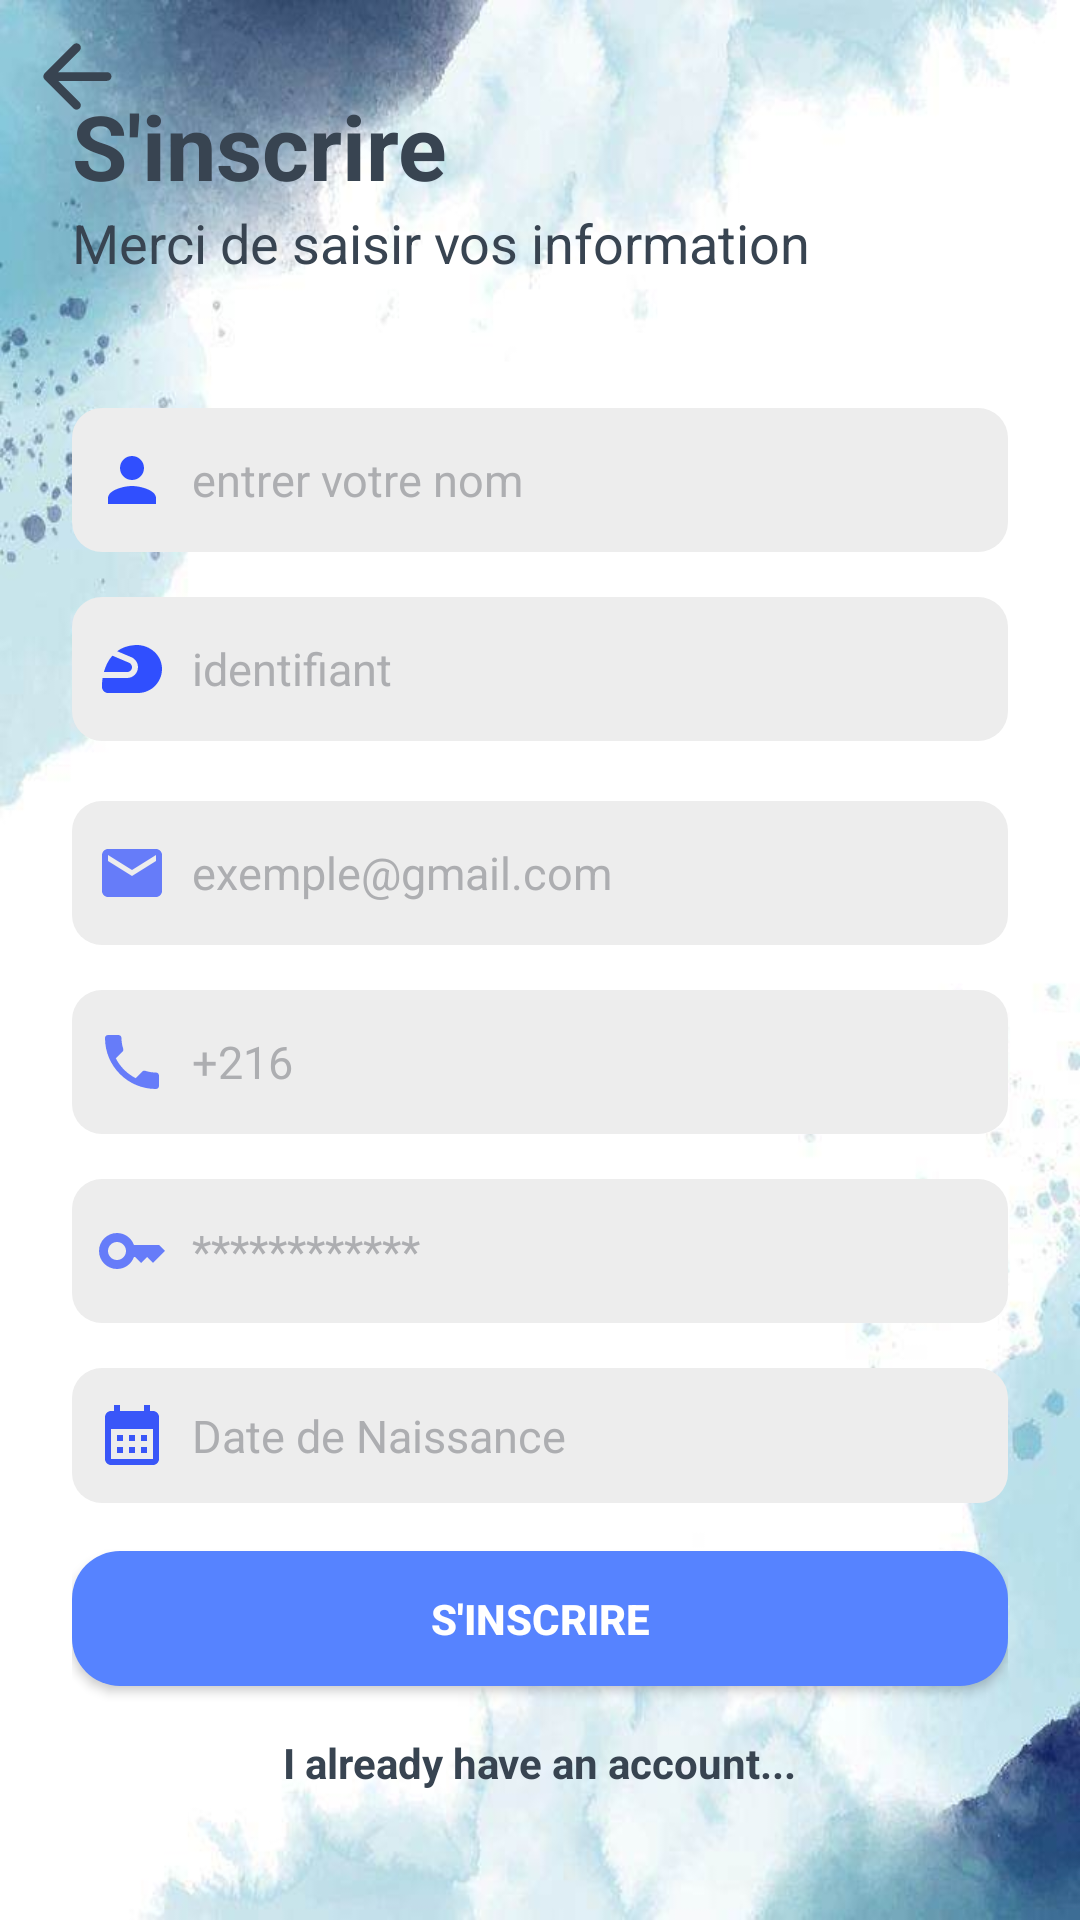

Point at icon controls on the screen. Image size 1080 x 1920, points as point (x, y).
back: point (76, 76)
